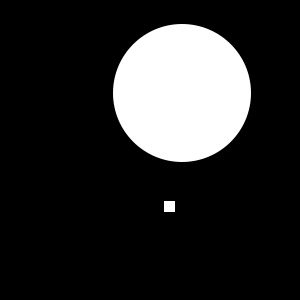circle: (164, 201, 175, 212)
rectangle: (113, 24, 251, 162)
